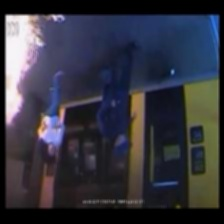fire: (0, 0, 52, 124)
